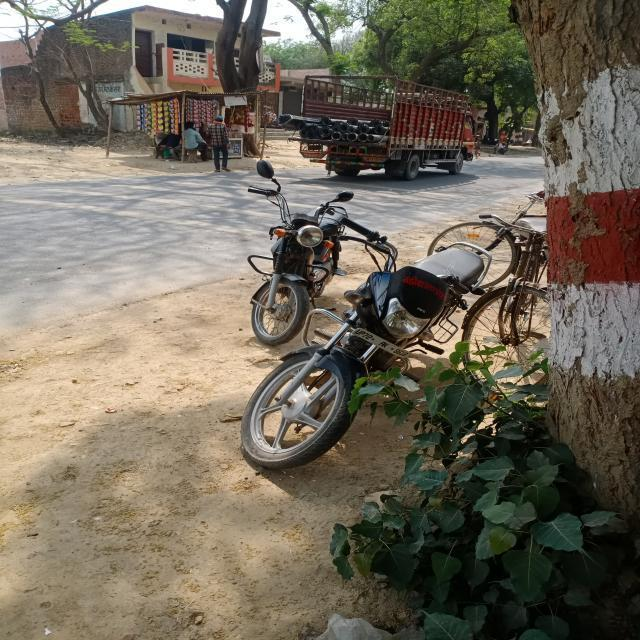truck_back: (292, 68, 484, 182)
two_wheeler_front: (238, 213, 501, 478), (241, 154, 369, 350)
